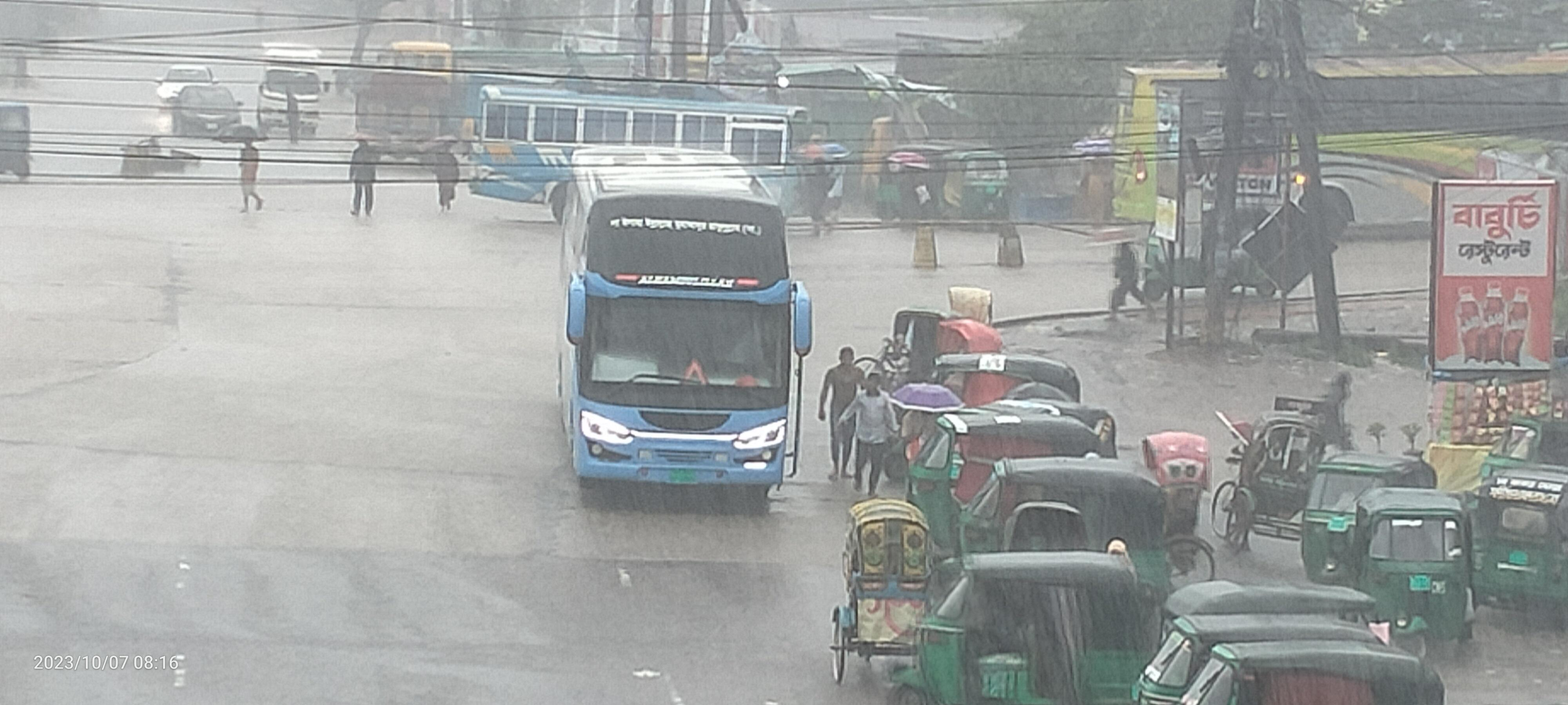Bus: (524, 125, 826, 540), (1077, 27, 1568, 265), (452, 81, 845, 254)
Car: (823, 481, 933, 694), (1204, 389, 1334, 556), (252, 38, 343, 146), (146, 55, 238, 121), (162, 88, 246, 146)
